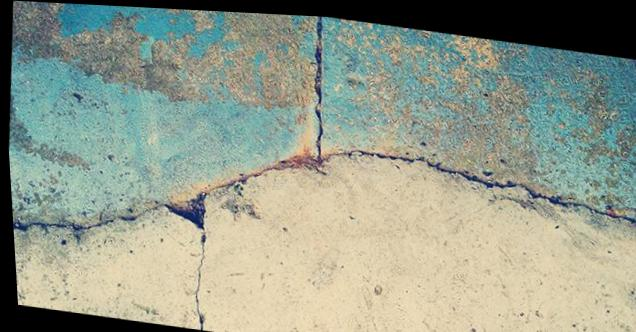crack: (10, 13, 636, 328)
